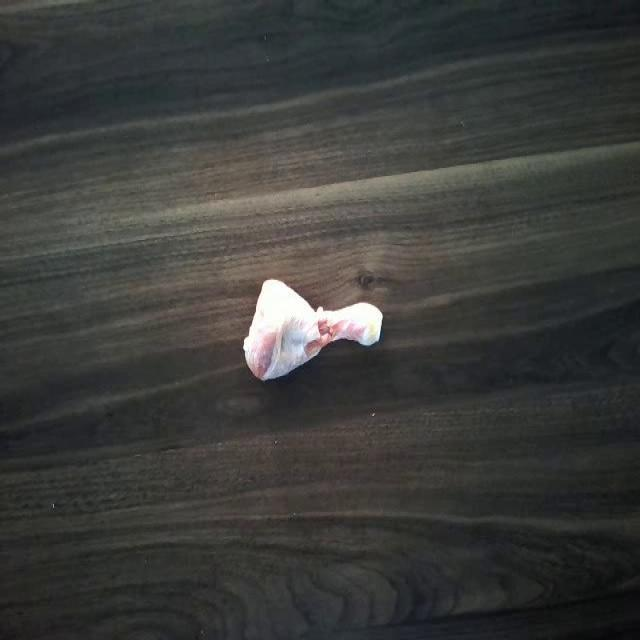leg: (242, 280, 381, 394)
